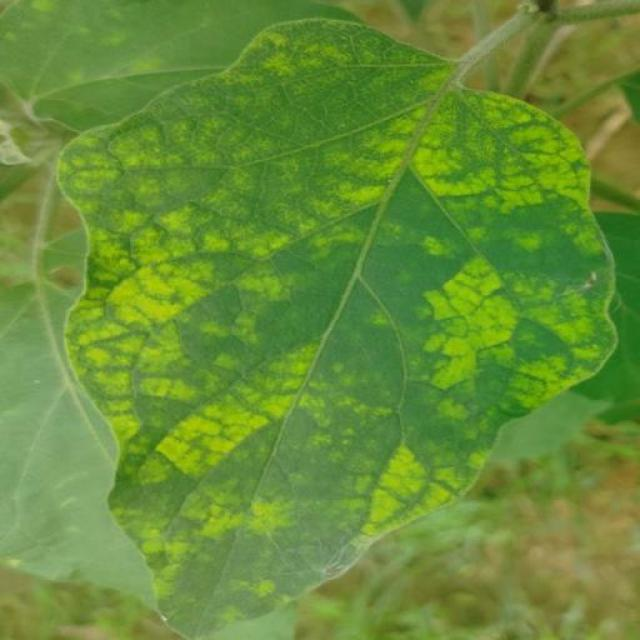leaf_spot: (470, 215, 625, 414), (184, 470, 418, 599), (2, 3, 237, 125), (374, 91, 537, 238), (360, 389, 492, 528), (60, 291, 168, 458), (106, 452, 209, 614), (403, 242, 509, 390), (174, 206, 313, 311), (140, 258, 240, 402), (498, 152, 617, 264), (152, 371, 258, 489), (100, 157, 195, 285), (306, 146, 427, 239), (197, 130, 296, 240), (228, 332, 343, 425), (351, 19, 472, 100), (317, 62, 407, 168), (235, 16, 364, 77), (35, 234, 103, 316), (59, 131, 117, 212), (115, 94, 173, 174), (240, 495, 294, 542), (369, 303, 402, 339)
